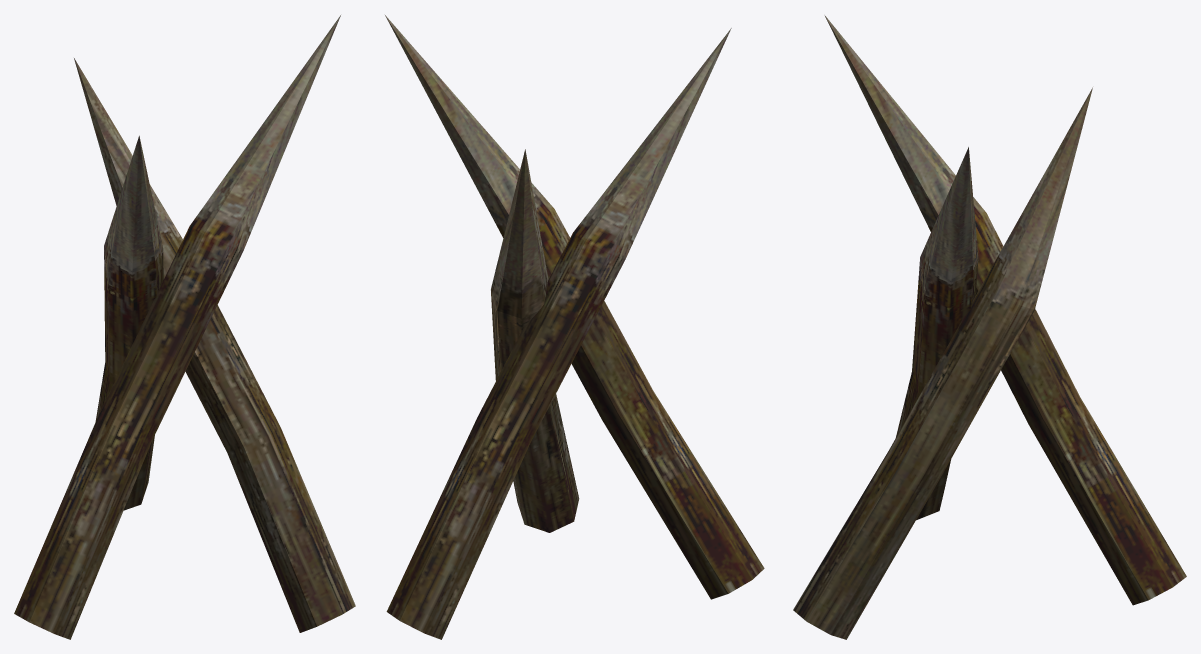
The picture shows the model from 3 angles, left to right: view 1: azimuth 30°, elevation 25°; view 2: azimuth 150°, elevation 25°; view 3: azimuth 270°, elevation 25°; orthographic projection.
Visible parts, largest first — view 1: Mesh01; view 2: Mesh01; view 3: Mesh01.
Boxes of the visible parts, x1,y1,x2,y2 form: Mesh01: (14, 15, 355, 639); Mesh01: (385, 15, 764, 639); Mesh01: (793, 15, 1186, 639).
Bounding box in the file's own units: 1.44 × 2.15 × 1.43.
